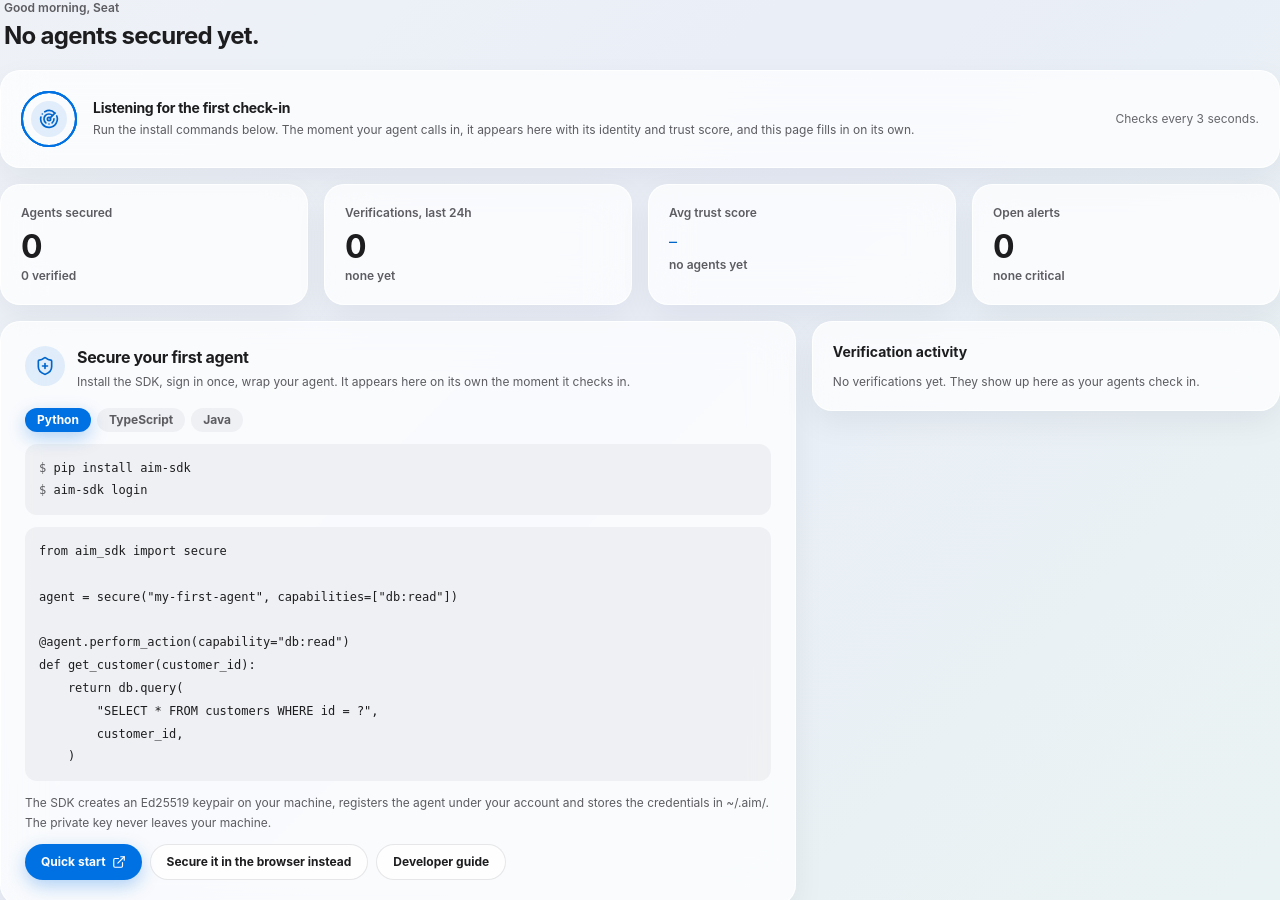
Test: onboarding telemetry › keeps the first-run screen working when reporting fails
Expected: the heading "Secure your first agent" is shown, [77,347,249,367]
Click the tab "TypeScript".
click(141, 420)  # box [97,408,185,432]
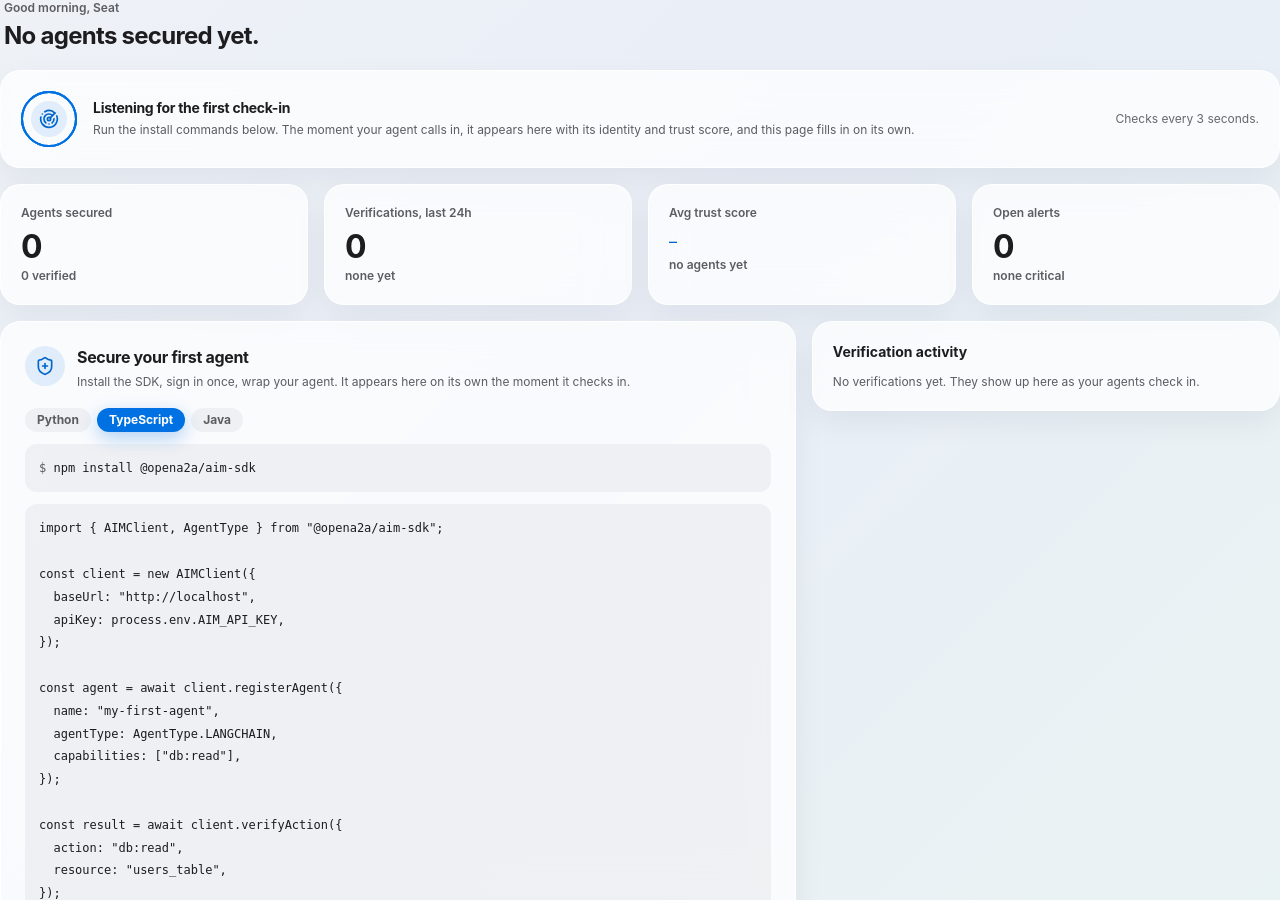
Result: the element named "Commands" shows "npm install @opena2a/aim-sdk" at [54,461,256,475]
